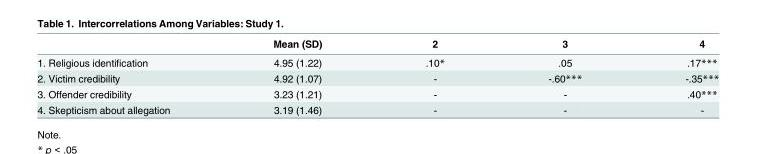table: (36, 37, 718, 115)
table column: (36, 37, 220, 115), (220, 37, 373, 115), (495, 37, 632, 115), (373, 37, 495, 115), (632, 37, 718, 115)
table column header: (36, 37, 718, 52)
table row: (36, 52, 718, 70), (36, 85, 718, 101), (36, 37, 718, 52), (36, 70, 718, 85), (36, 101, 718, 115)
